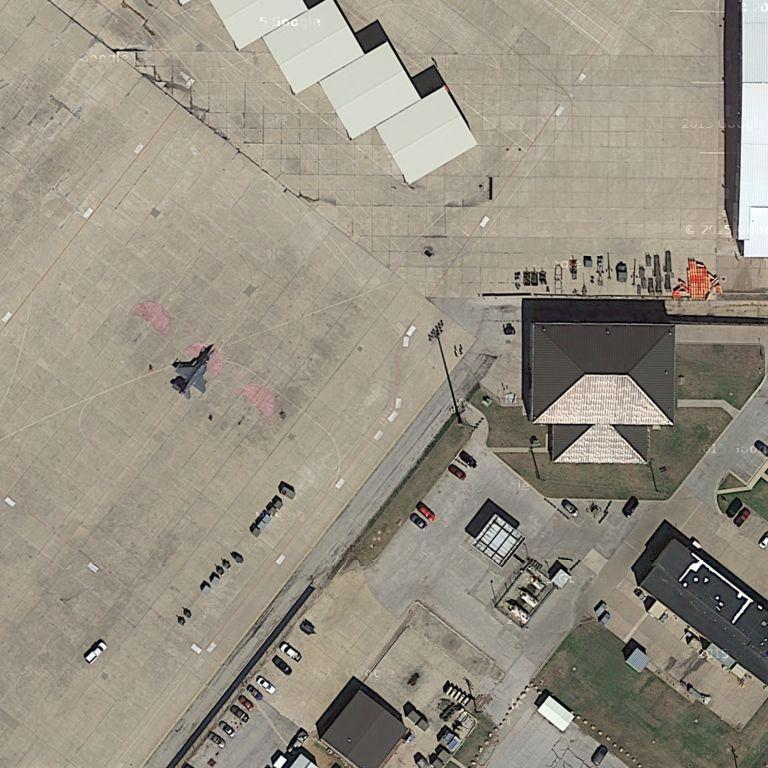F/A-18: (171, 340, 219, 403)
